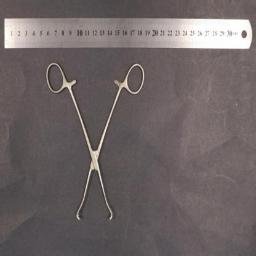Babcock Tissue Forceps: (45, 62, 145, 222)
